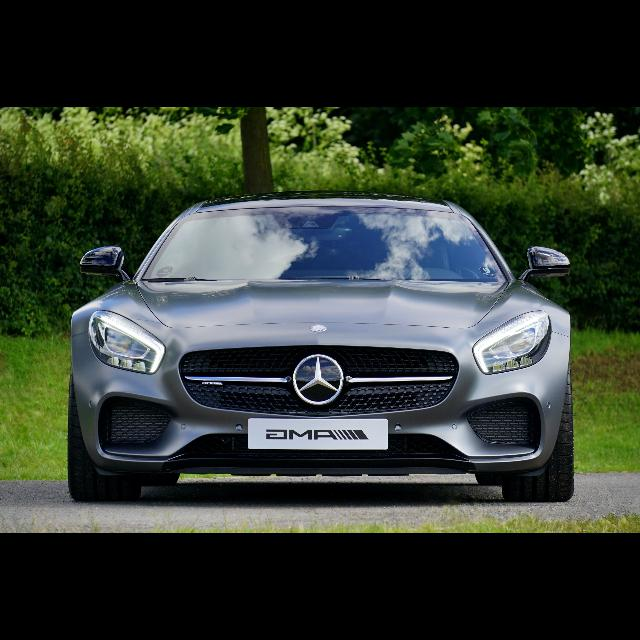cars: (52, 180, 590, 510)
